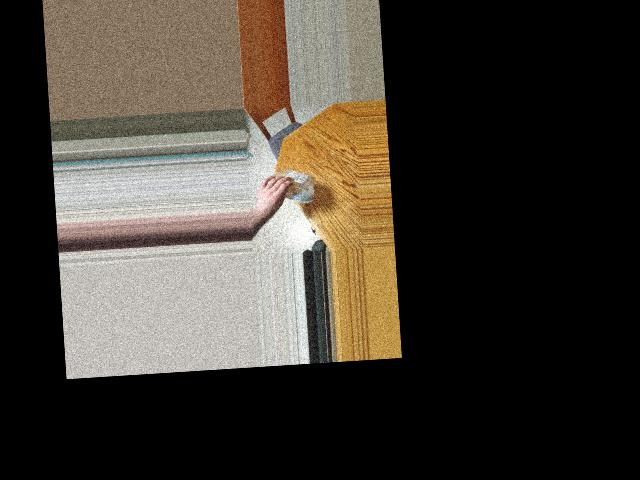cheese: (272, 167, 313, 202)
